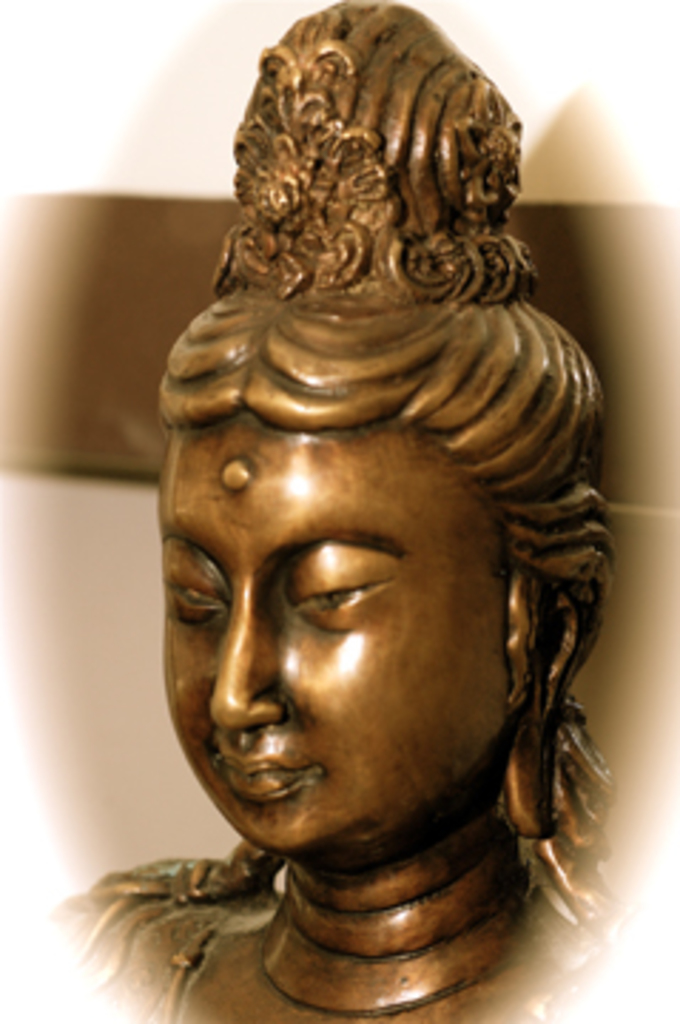Person: (53, 0, 619, 1024)
